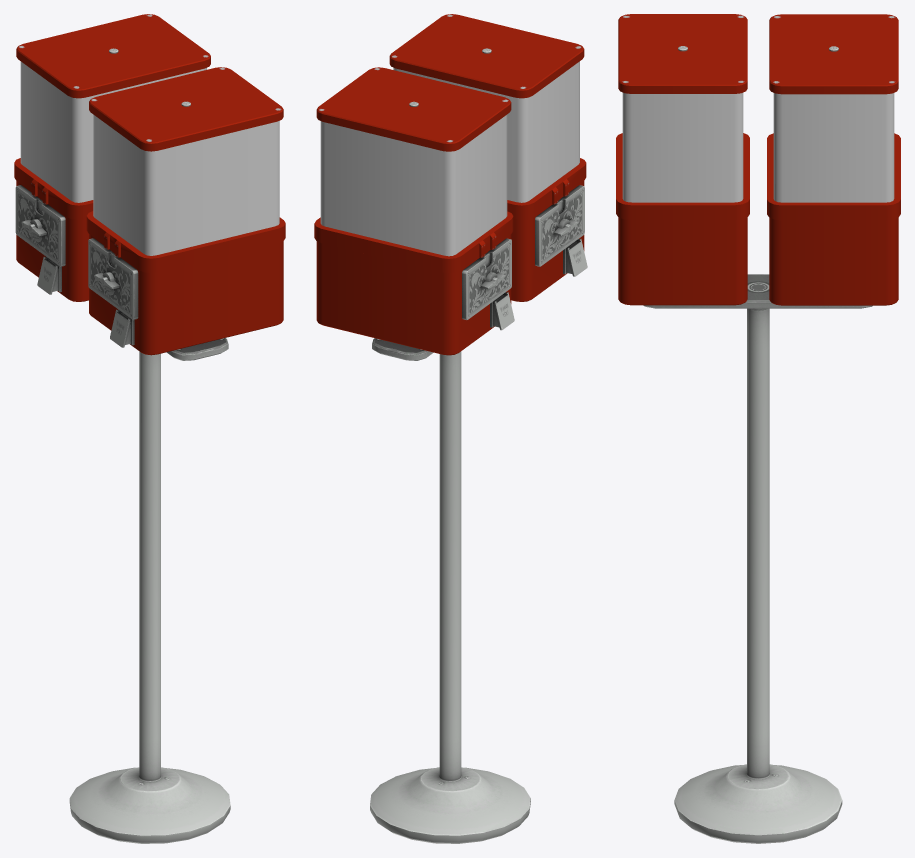
File: gumballmachine_machine_001.fbx
3 views of the same model, side by side, from view 1: azimuth 30°, elevation 25°; view 2: azimuth 150°, elevation 25°; view 3: azimuth 270°, elevation 25° (orthographic). The views are drawn at different scales.
Visible parts, largest first — view 1: gumballmachine_machine.001; view 2: gumballmachine_machine.001; view 3: gumballmachine_machine.001.
Boxes of the visible parts, x1,y1,x2,y2 form: gumballmachine_machine.001: (14, 14, 285, 843); gumballmachine_machine.001: (314, 14, 587, 843); gumballmachine_machine.001: (616, 14, 900, 843).
Bounding box in the file's own units: 30.18 × 136 × 46.
